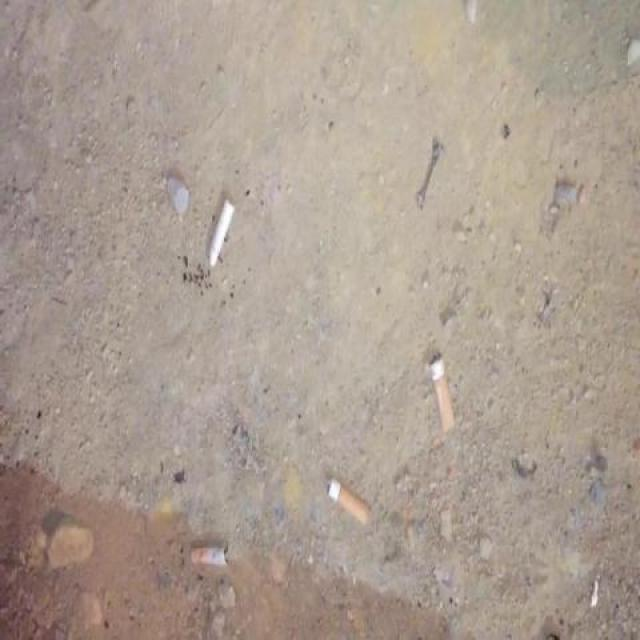non-organic waste: (425, 349, 459, 440), (324, 474, 379, 530), (204, 194, 239, 271)
